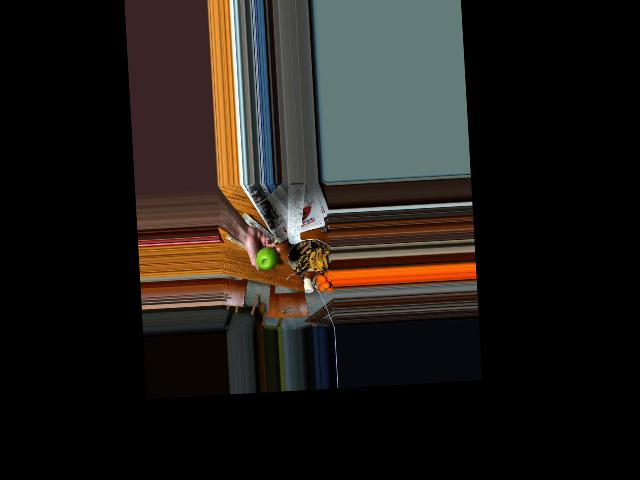apple: (253, 245, 280, 271)
